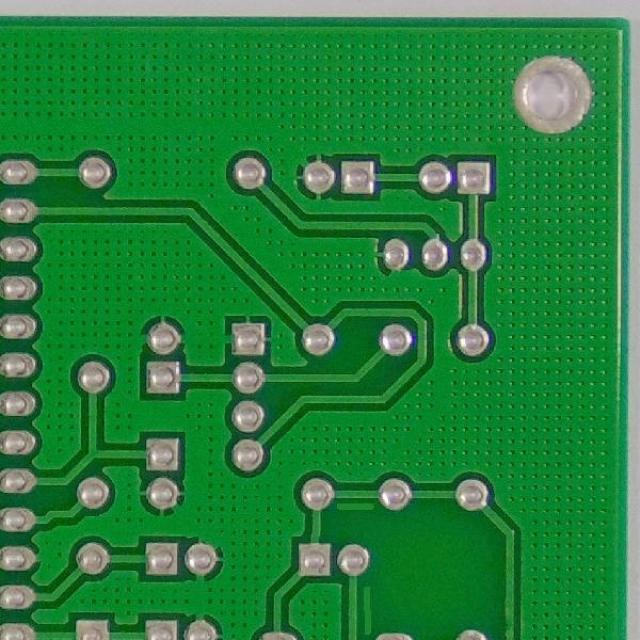spurious_copper: (359, 581, 381, 639), (336, 500, 377, 518)
